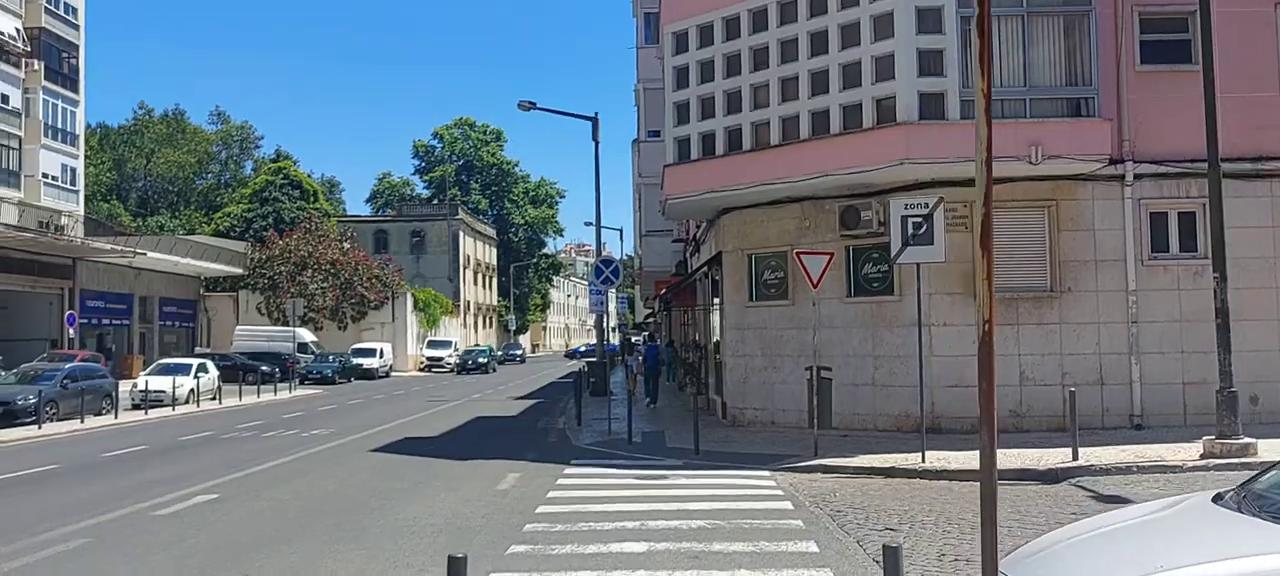cedencia de passagem: (788, 248, 843, 296)
fim de zona de estacionamento autorizado: (886, 191, 947, 261)
paragem e estacionamento proibido: (590, 254, 626, 293)
